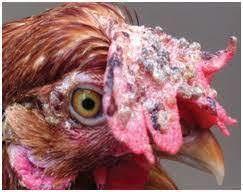Mycotic Infections: (6, 7, 239, 192)
